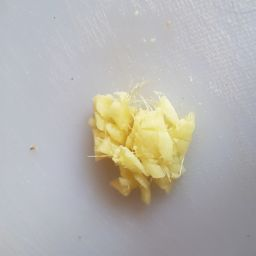Minced ginger: (79, 73, 198, 207)
